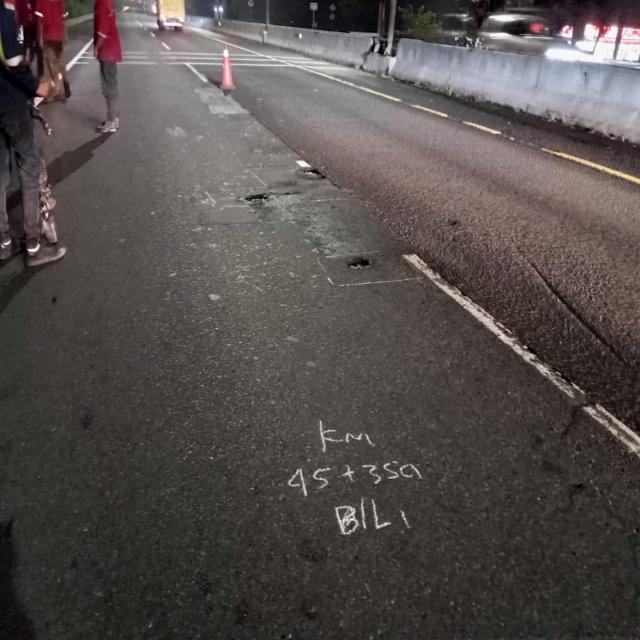Buraco: (343, 254, 375, 272), (244, 191, 282, 204), (298, 166, 330, 181)
